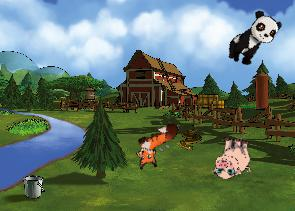fox: (127, 120, 188, 173)
panda: (222, 6, 284, 72)
pig: (211, 135, 253, 180)
